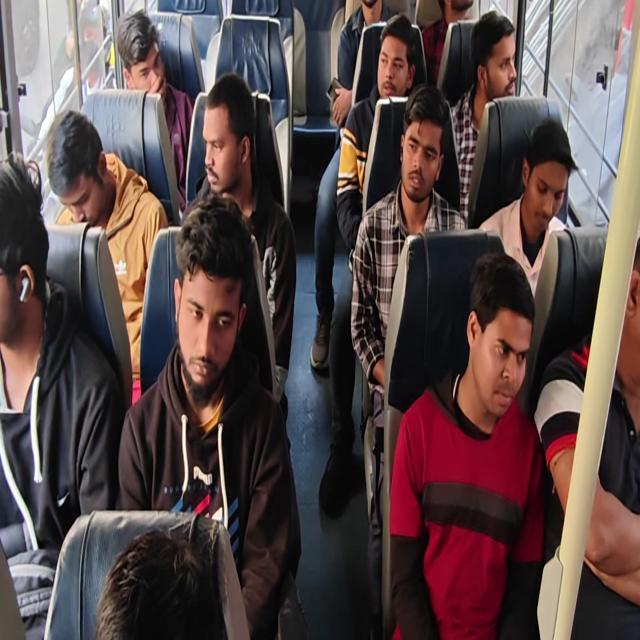person: (1, 2, 638, 638), (116, 192, 306, 638), (349, 83, 467, 636), (388, 251, 546, 638), (0, 153, 124, 638), (534, 231, 639, 638), (183, 72, 297, 442), (46, 109, 169, 406), (310, 1, 395, 370), (335, 13, 417, 269), (26, 0, 112, 216), (478, 116, 576, 298), (114, 9, 193, 213), (94, 527, 228, 639), (450, 10, 518, 222), (329, 0, 393, 132), (421, 0, 473, 87)
